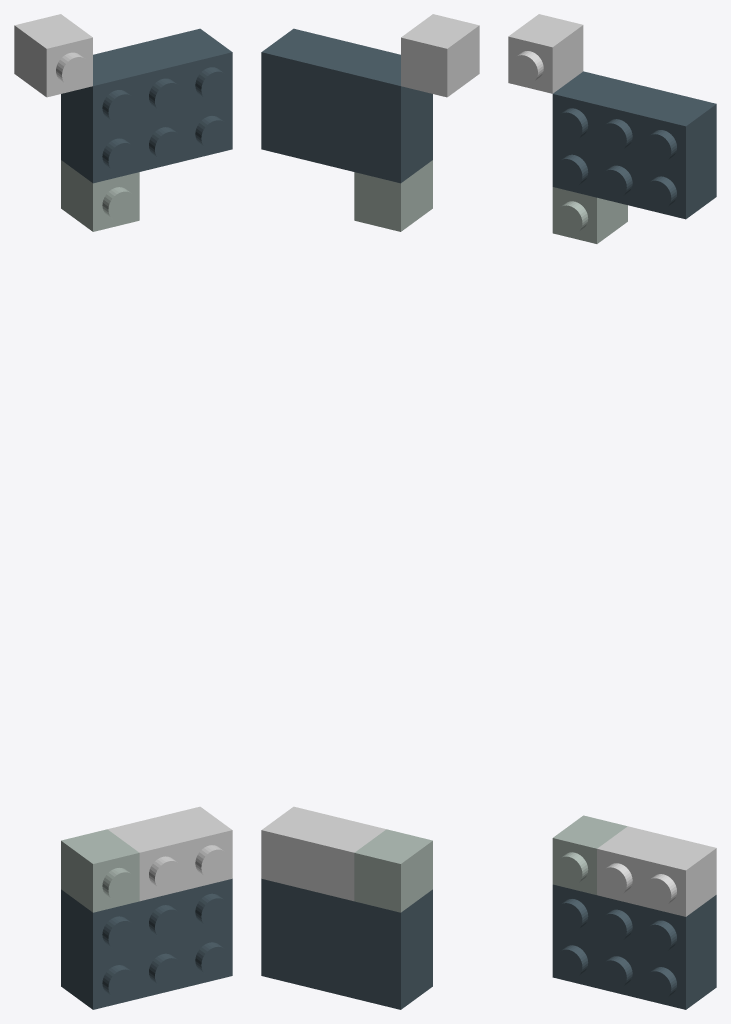
File: current.glb
3 views of the same model, side by side, from view 1: azimuth 30°, elevation 25°; view 2: azimuth 150°, elevation 25°; view 3: azimuth 330°, elevation 25° (orthographic). The views are drawn at different scales.
Parts seen in each view (by area): view 1: world; view 2: world; view 3: world.
Boxes of the visible parts, left/top/right/bottom form: world: left=14, top=14, right=232, bottom=1009; world: left=261, top=14, right=479, bottom=1009; world: left=508, top=14, right=716, bottom=1009.
Size of the model in its own units: 32 by 160 by 11.4.
